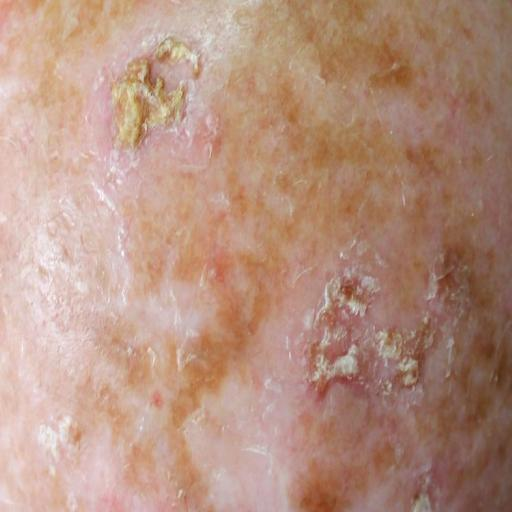Skin_Lesion: (295, 251, 387, 413), (90, 306, 170, 394), (184, 282, 248, 374), (208, 223, 274, 294), (115, 50, 155, 144), (452, 83, 492, 126), (469, 256, 502, 308), (112, 0, 189, 22), (156, 27, 183, 72), (159, 84, 188, 124), (92, 73, 114, 98), (190, 53, 206, 81), (151, 387, 167, 409)
